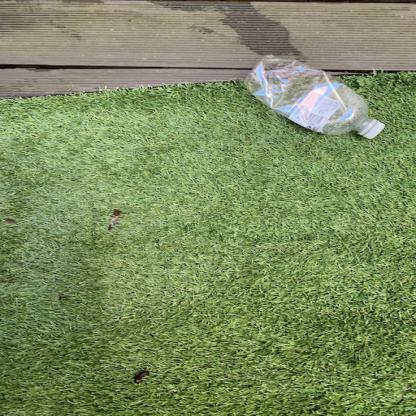plastic-bottles: (240, 54, 389, 148)
